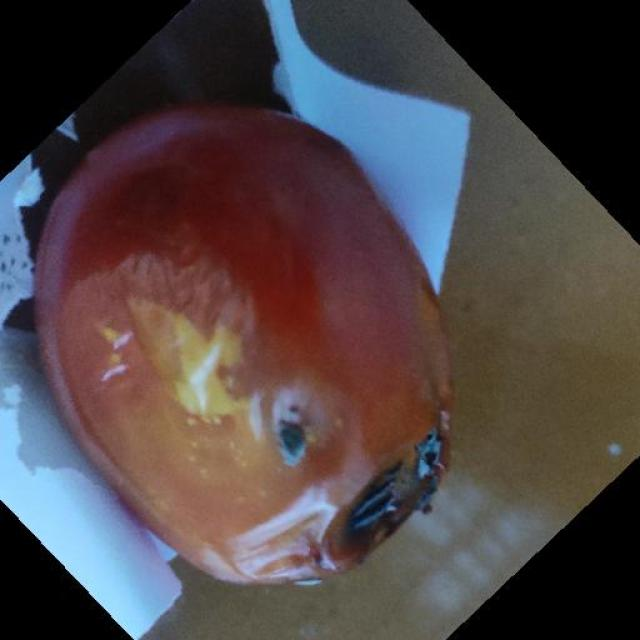Stale_tomato: (24, 117, 486, 578)
